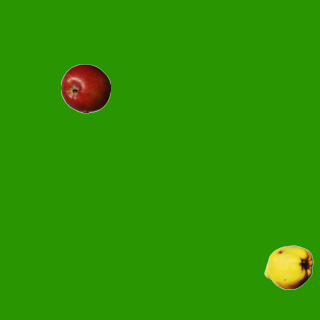Apple Braeburn: (60, 63, 110, 113)
Quince: (263, 242, 313, 292)
